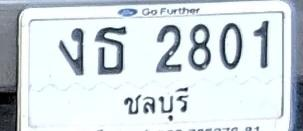0: (218, 22, 243, 70)
1: (252, 20, 270, 68)
2: (156, 23, 182, 72)
8: (187, 22, 211, 70)
A07: (58, 26, 84, 75)
A24: (94, 24, 127, 74)
CBI: (118, 85, 193, 124)
